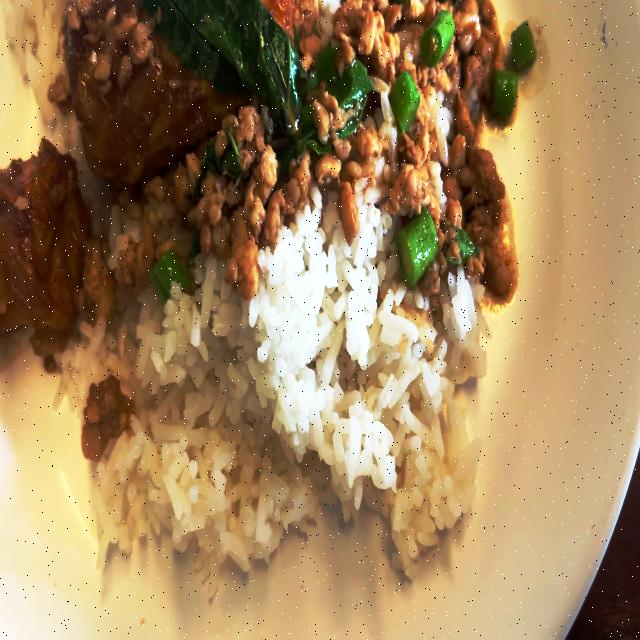fried_tofo: (64, 0, 320, 124), (0, 156, 83, 323)
minced_pork: (327, 0, 522, 292), (208, 110, 342, 272), (86, 153, 200, 303), (86, 378, 126, 444)
rice: (138, 294, 476, 542)
stir_fried_basil: (0, 0, 530, 580)
